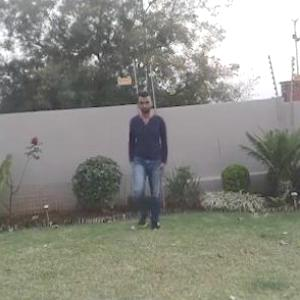follow: (121, 88, 169, 236)
